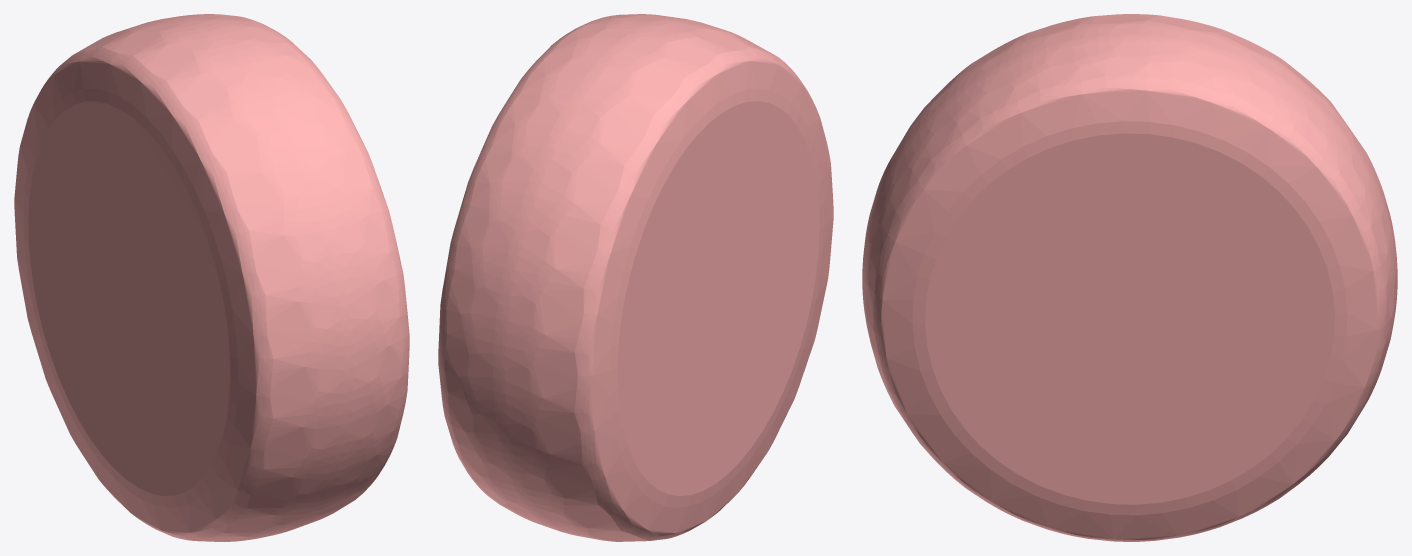
File: rambler_Rueda2dyn_coll_1.dae
The picture shows the model from 3 angles, left to right: view 1: azimuth 30°, elevation 25°; view 2: azimuth 150°, elevation 25°; view 3: azimuth 270°, elevation 25°; orthographic projection.
Parts seen in each view (by area): view 1: Node_0x7fe100285c80; view 2: Node_0x7fe100285c80; view 3: Node_0x7fe100285c80.
Part boxes in pixels (box(x1,y1,x2,y2)): Node_0x7fe100285c80: box(14, 14, 409, 541); Node_0x7fe100285c80: box(438, 14, 833, 541); Node_0x7fe100285c80: box(862, 14, 1397, 541).
Size of the model in its own units: 0.1941 by 0.5333 by 0.5333.
